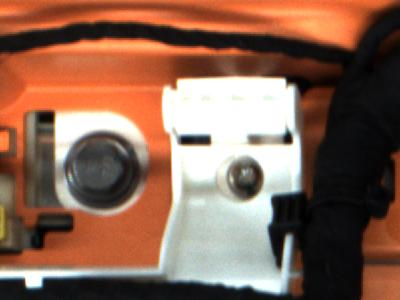nut_b: (61, 130, 144, 212)
